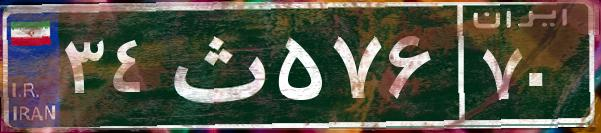0: (525, 38, 570, 115)
3: (57, 26, 110, 107)
4: (110, 28, 158, 105)
5: (273, 28, 330, 110)
6: (385, 28, 445, 110)
7: (330, 28, 385, 110), (475, 38, 525, 113)
ث: (158, 15, 273, 115)
